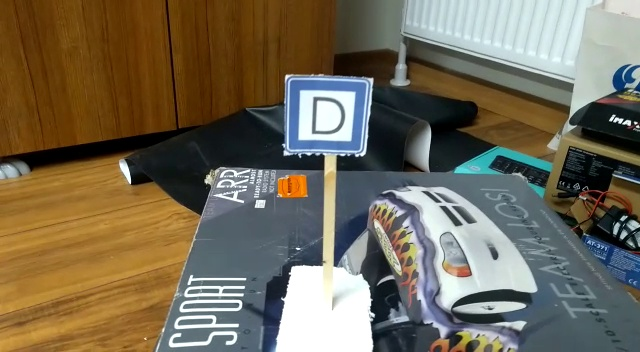durak: (283, 78, 375, 166)
